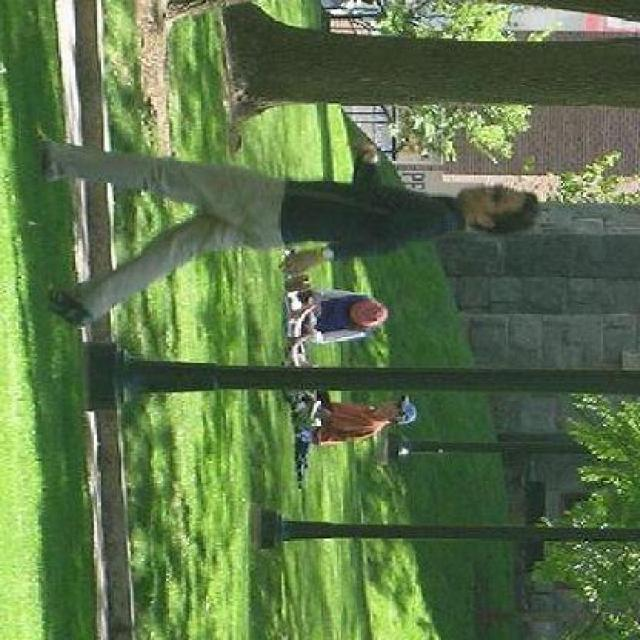Person: (23, 106, 546, 329), (318, 398, 420, 448), (317, 283, 388, 348)
